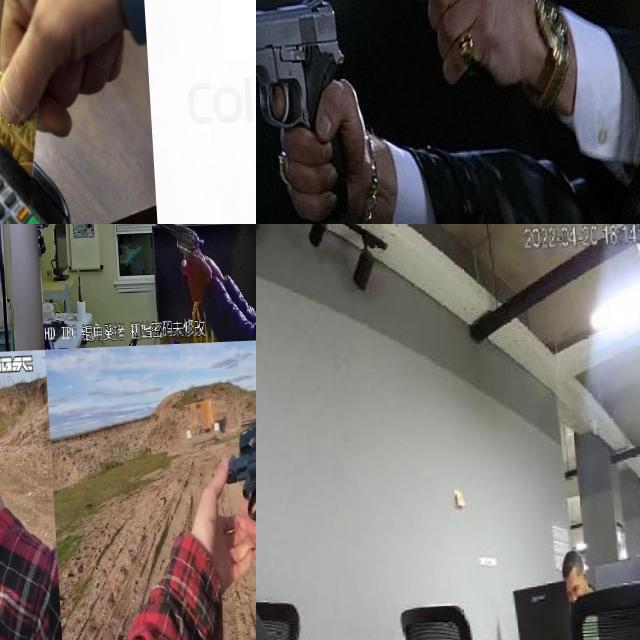gun-knife-thesis - v11 Yolov5 augmented: (256, 0, 362, 224), (339, 0, 495, 134), (0, 357, 79, 566), (208, 421, 256, 583), (146, 224, 227, 301), (0, 224, 24, 318)
